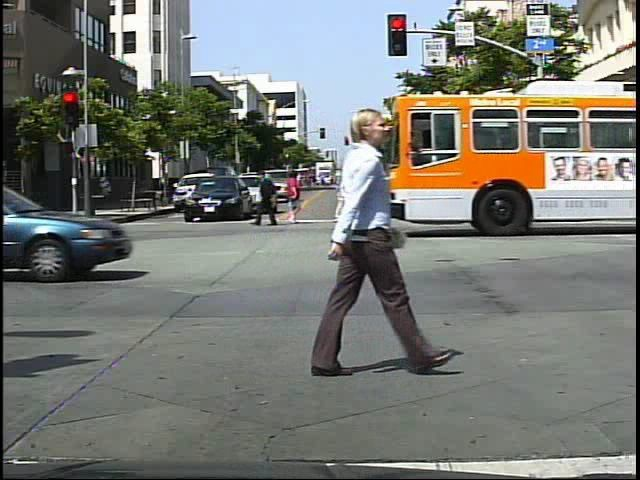person: (284, 86, 412, 386), (341, 164, 372, 228), (256, 166, 281, 231), (282, 167, 307, 227), (551, 160, 573, 211)
